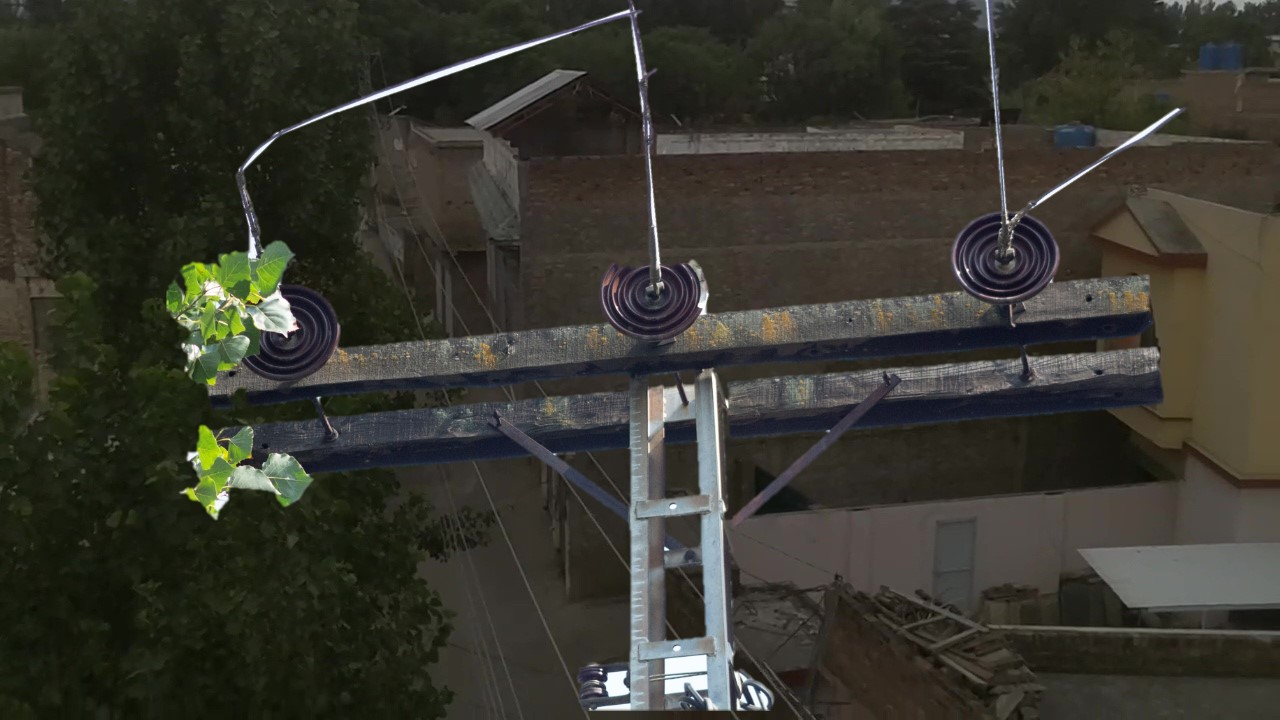defect_disc: (593, 246, 713, 352)
insulator_disc: (946, 213, 1067, 307), (251, 280, 349, 383)
